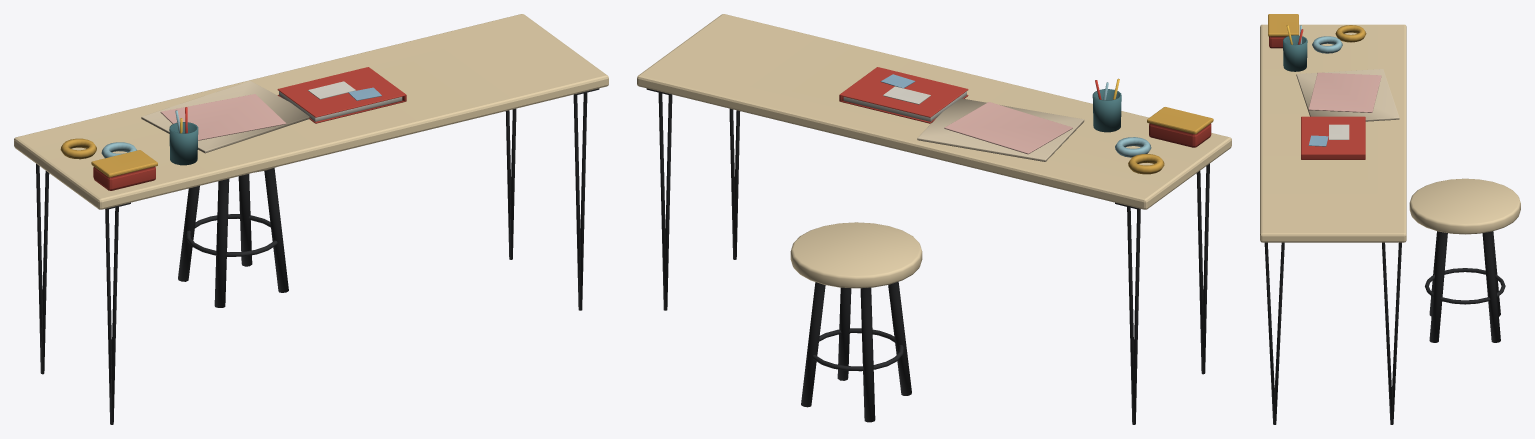
File: craftTable.glb
The picture shows the model from 3 angles, left to right: view 1: azimuth 30°, elevation 25°; view 2: azimuth 150°, elevation 25°; view 3: azimuth 270°, elevation 25°; orthographic projection. The views are drawn at different scales.
Visible parts, largest first — view 1: body, cover; view 2: body, cover; view 3: body, cover.
Boxes of the visible parts, box(x1,y1,x2,y2) form: body: box(14, 14, 608, 424); cover: box(277, 67, 405, 117); body: box(637, 14, 1231, 424); cover: box(840, 67, 968, 117); body: box(1260, 14, 1520, 424); cover: box(1301, 116, 1365, 153).
Size of the model in its own units: 1.7 by 0.9038 by 0.89.
